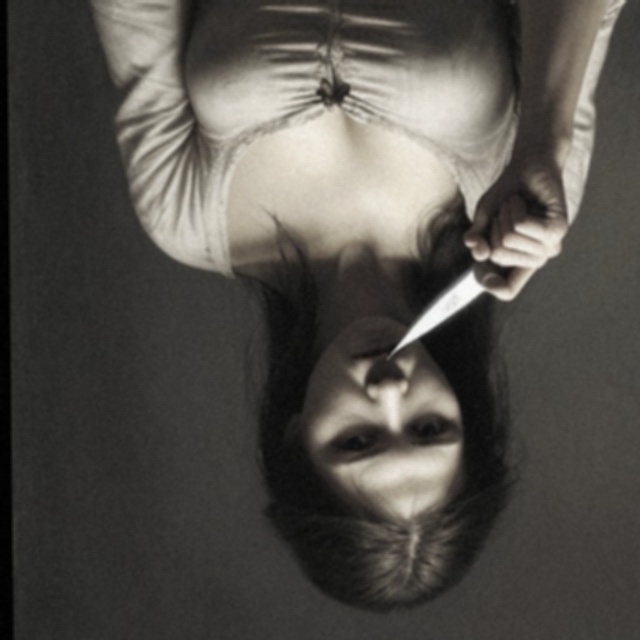Sharp-Object: (377, 199, 553, 377)
